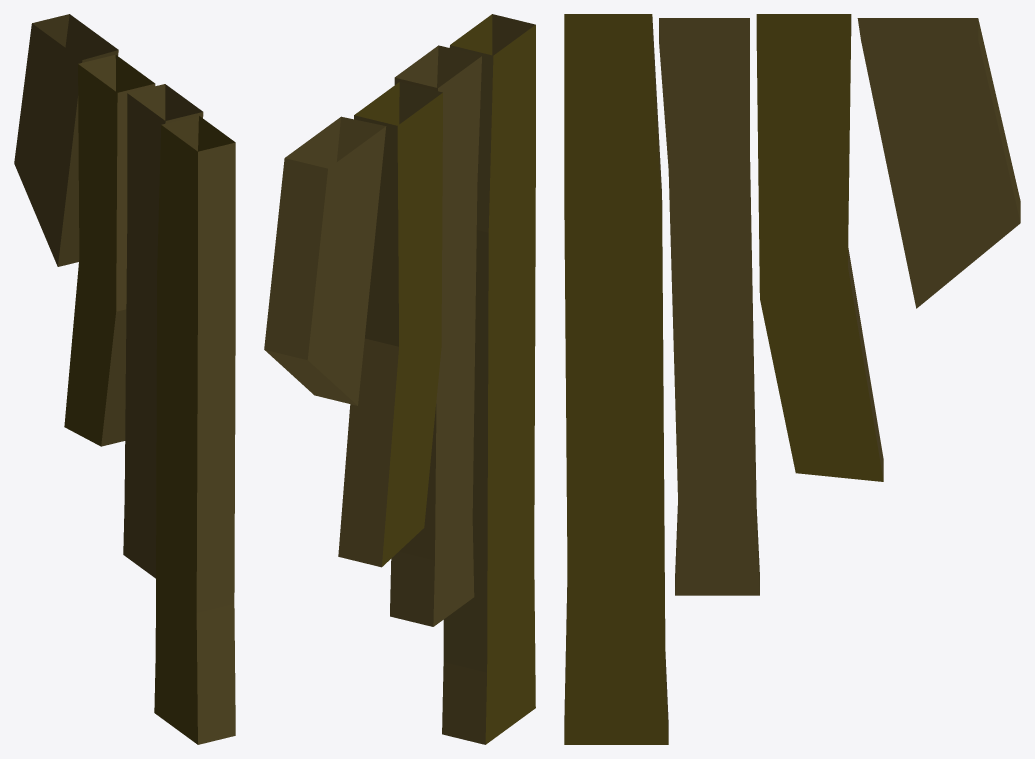
3 renders of one model, left to right at view 1: azimuth 30°, elevation 25°; view 2: azimuth 150°, elevation 25°; view 3: azimuth 270°, elevation 25°, orthographic. The views are drawn at different scales.
Size of the model in its own units: 0.1484 by 1.88 by 1.09.
